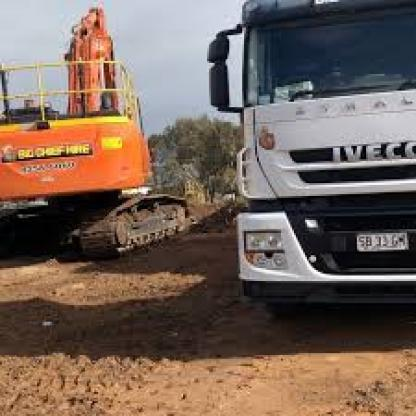dump_truck: (199, 0, 414, 325)
excavator: (4, 2, 194, 270)
